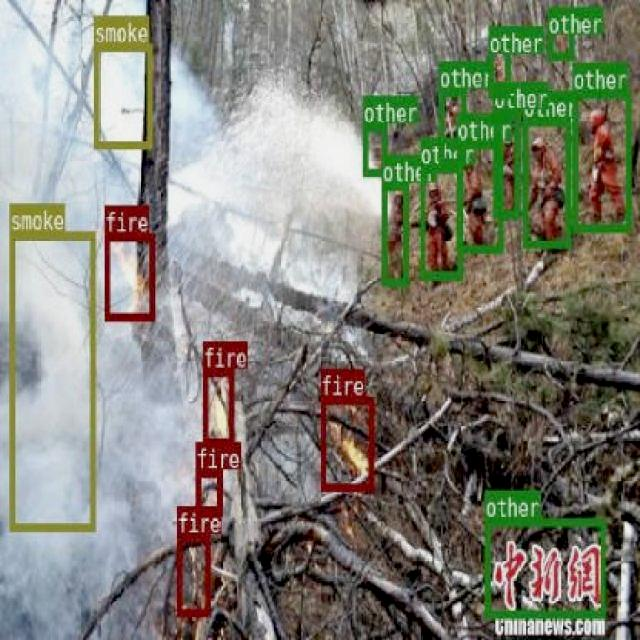fire: (320, 396, 372, 490), (104, 232, 153, 320), (176, 532, 210, 616), (200, 368, 233, 446), (196, 469, 222, 514)
smoke: (9, 230, 94, 530), (92, 42, 150, 147)
